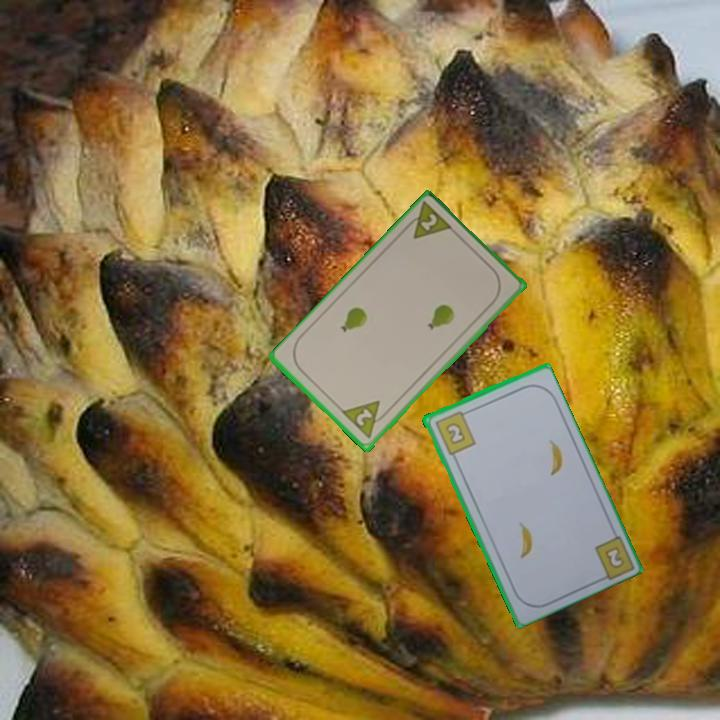2b: (431, 407, 478, 457), (601, 542, 627, 571)
2p: (400, 199, 456, 243), (339, 397, 392, 443)
